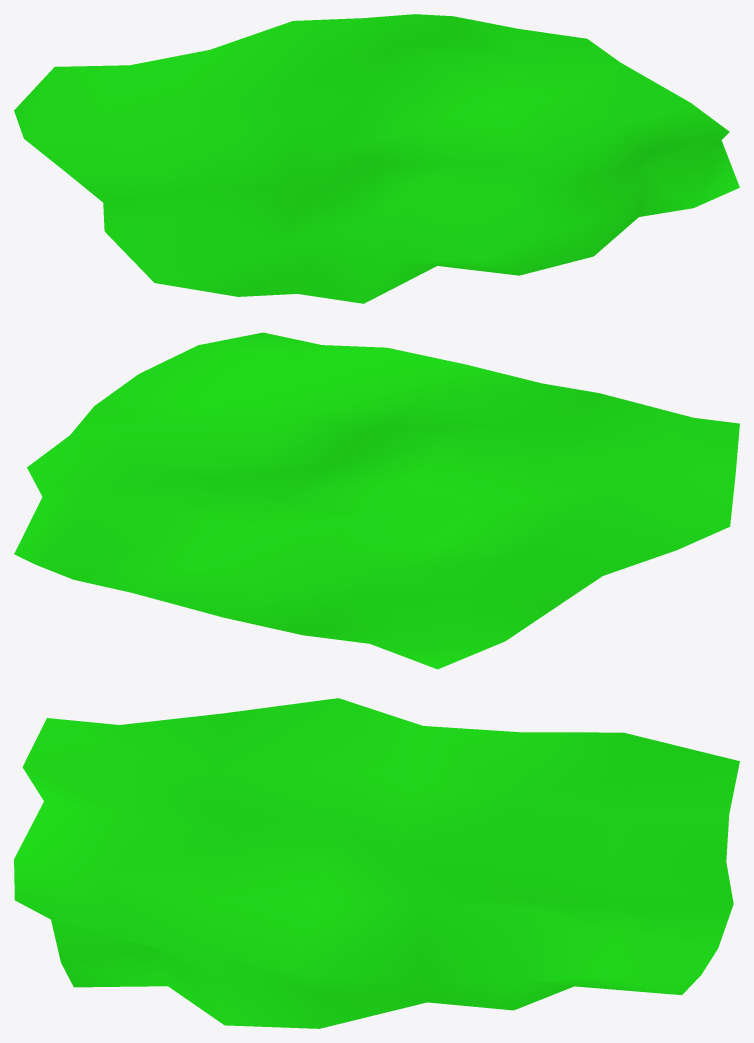
Rendered from lechuga2.glb.
The picture shows the model from 3 angles, top to bottom: view 1: azimuth 30°, elevation 25°; view 2: azimuth 150°, elevation 25°; view 3: azimuth 270°, elevation 25°; orthographic projection. The views are drawn at different scales.
Visible parts, largest first — view 1: Plano.002; view 2: Plano.002; view 3: Plano.002.
Part boxes in pixels (x1=…): Plano.002: x1=14, y1=14, x2=739, y2=303; Plano.002: x1=14, y1=332, x2=739, y2=669; Plano.002: x1=14, y1=698, x2=739, y2=1028.
Bounding box in the file's own units: 3.74 × 0.2746 × 3.54.
